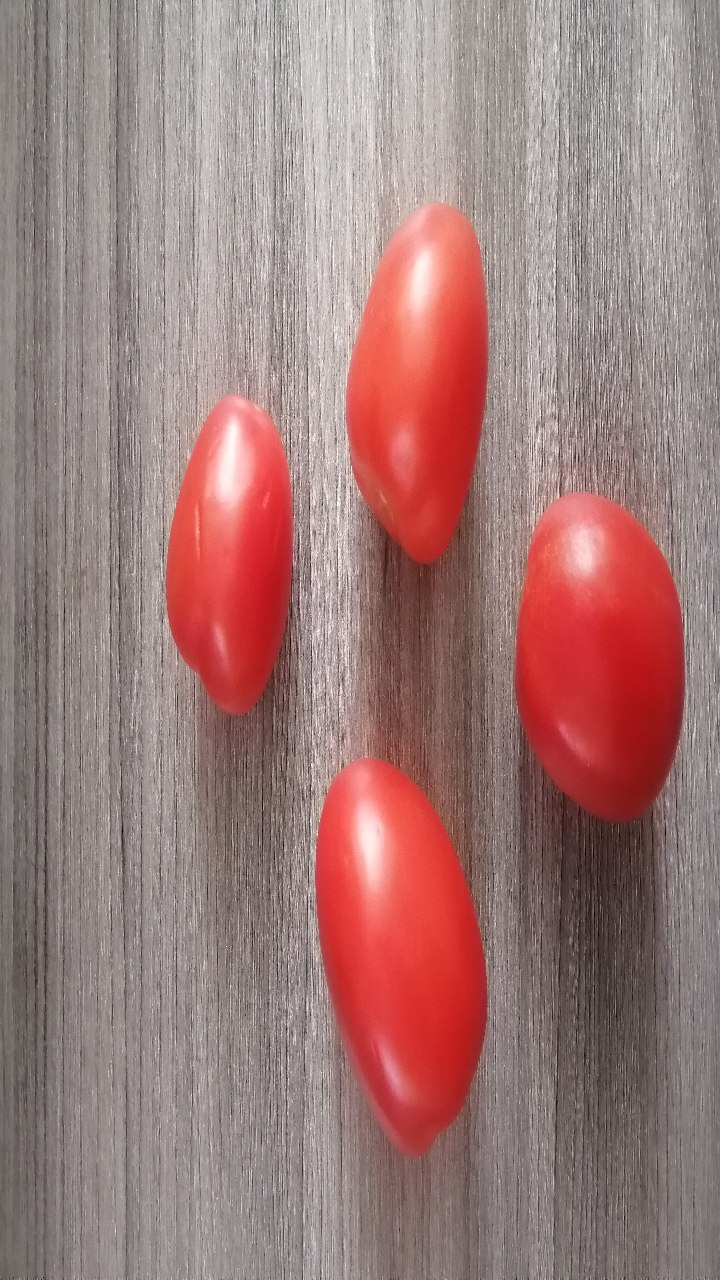tomateRojo: (297, 743, 511, 1157), (501, 471, 700, 852), (324, 192, 515, 583), (106, 379, 321, 720)
